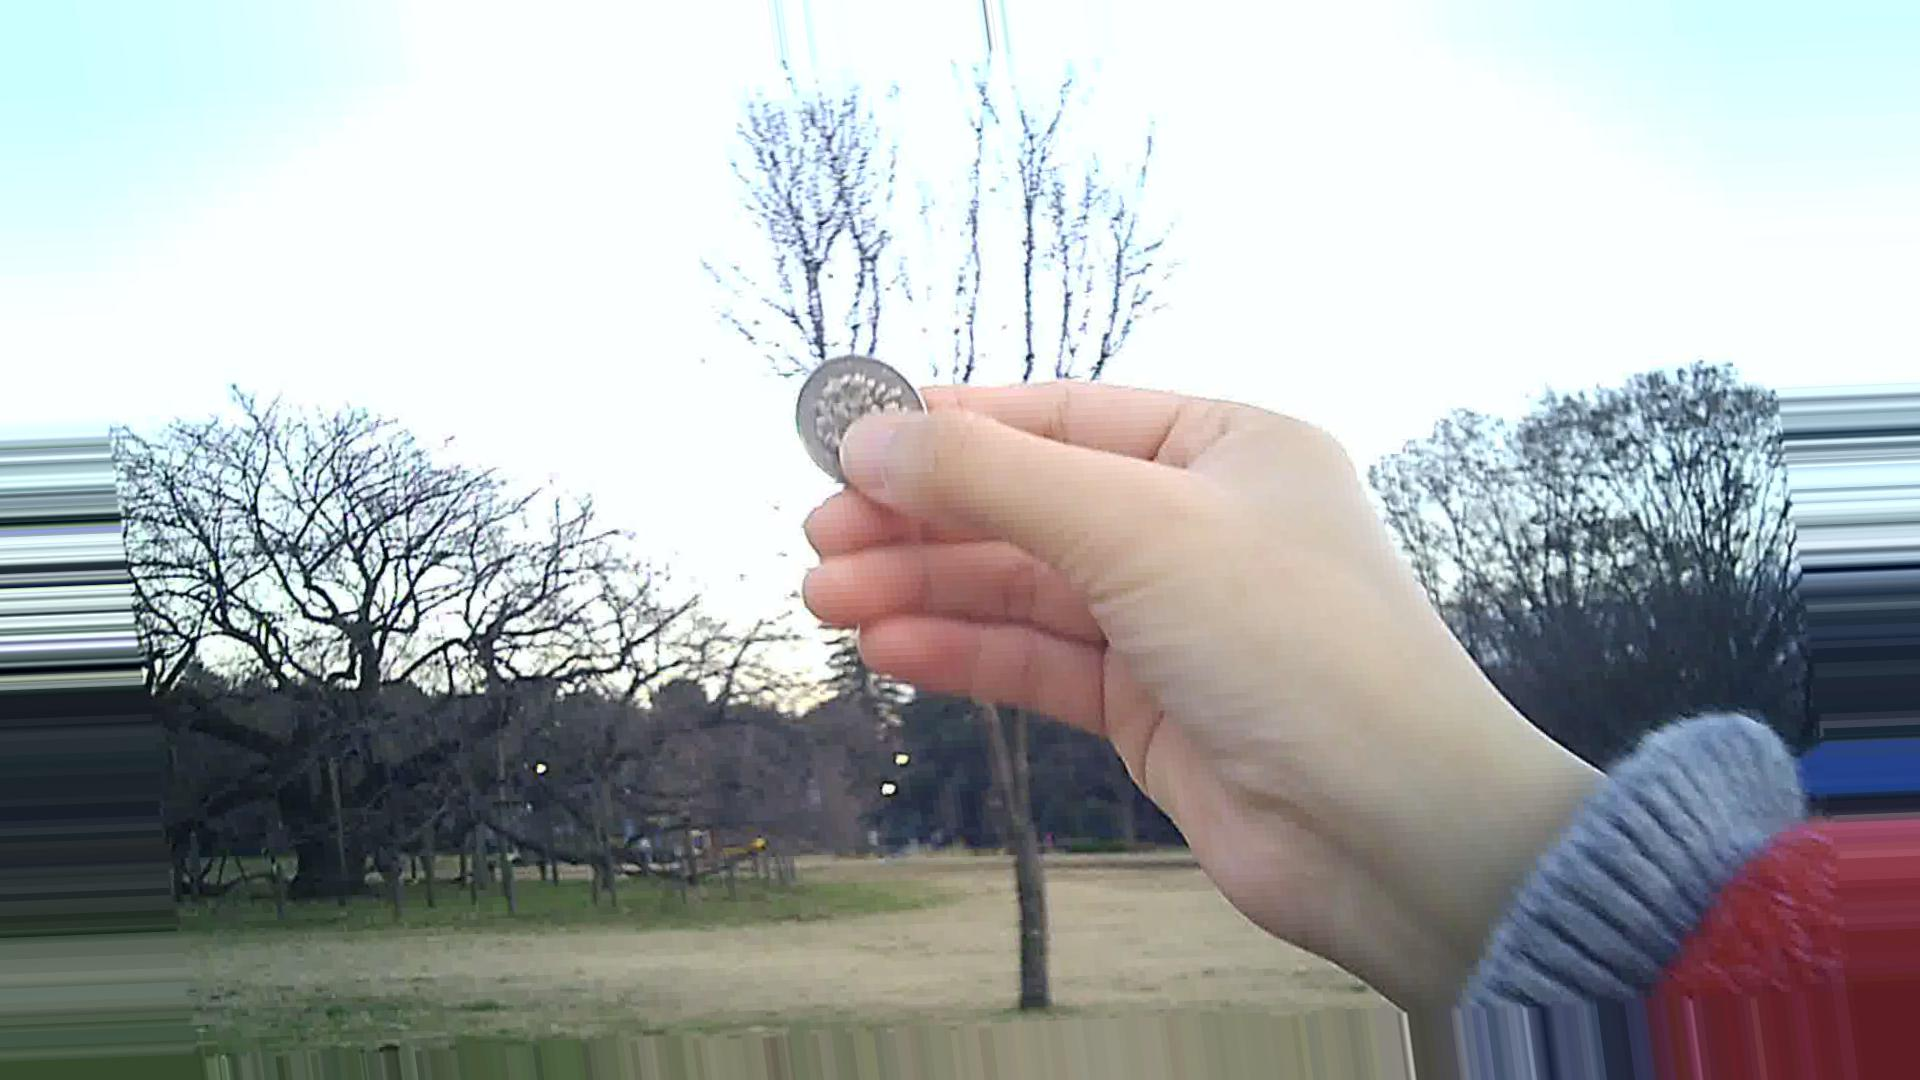100 Yen: (787, 348, 928, 495)
